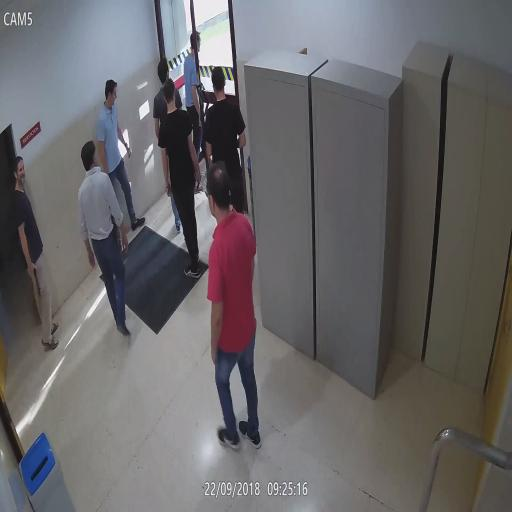Handgun: (193, 168, 203, 193), (112, 228, 122, 252)
